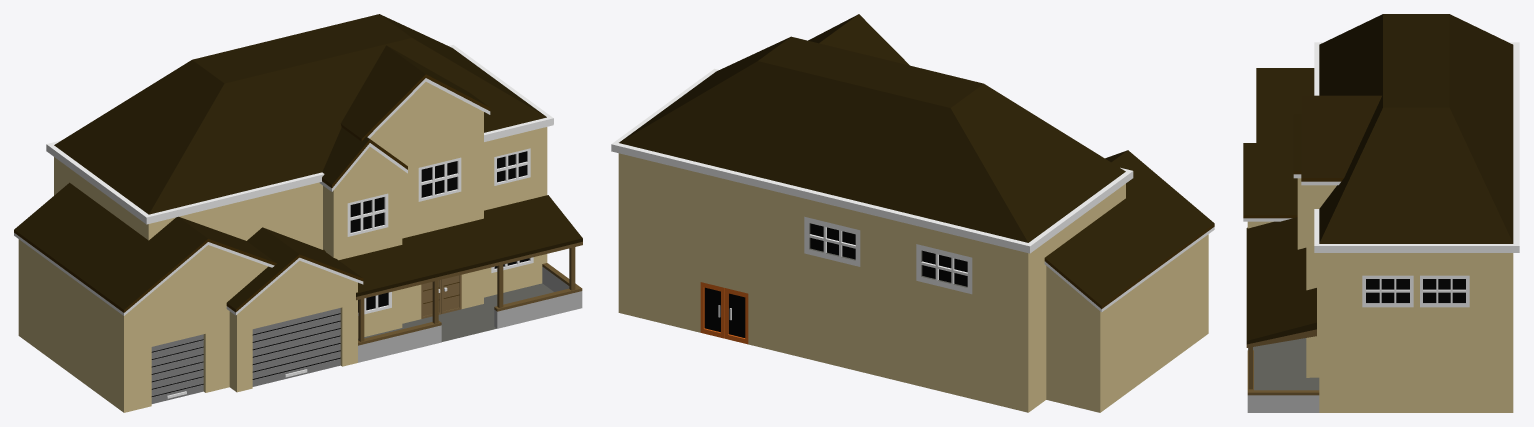
Rendered from House-01-b.fbx.
3 renders of one model, left to right at view 1: azimuth 30°, elevation 25°; view 2: azimuth 150°, elevation 25°; view 3: azimuth 270°, elevation 25°, orthographic. The views are drawn at different scales.
Visible parts, largest first — view 1: Cube; view 2: Cube; view 3: Cube.
Part boxes in pixels (<box>): Cube: <box>14,14,582,412</box>; Cube: <box>611,14,1214,412</box>; Cube: <box>1243,14,1519,412</box>.
Size of what is drawn, in the model's own units: 21.98 by 11.34 by 11.22.
